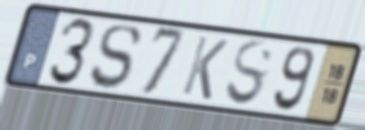3: (48, 15, 96, 88)
7: (141, 23, 186, 99)
9: (271, 45, 317, 114)
K: (178, 34, 231, 103)
S: (223, 38, 277, 110), (88, 23, 144, 91)
